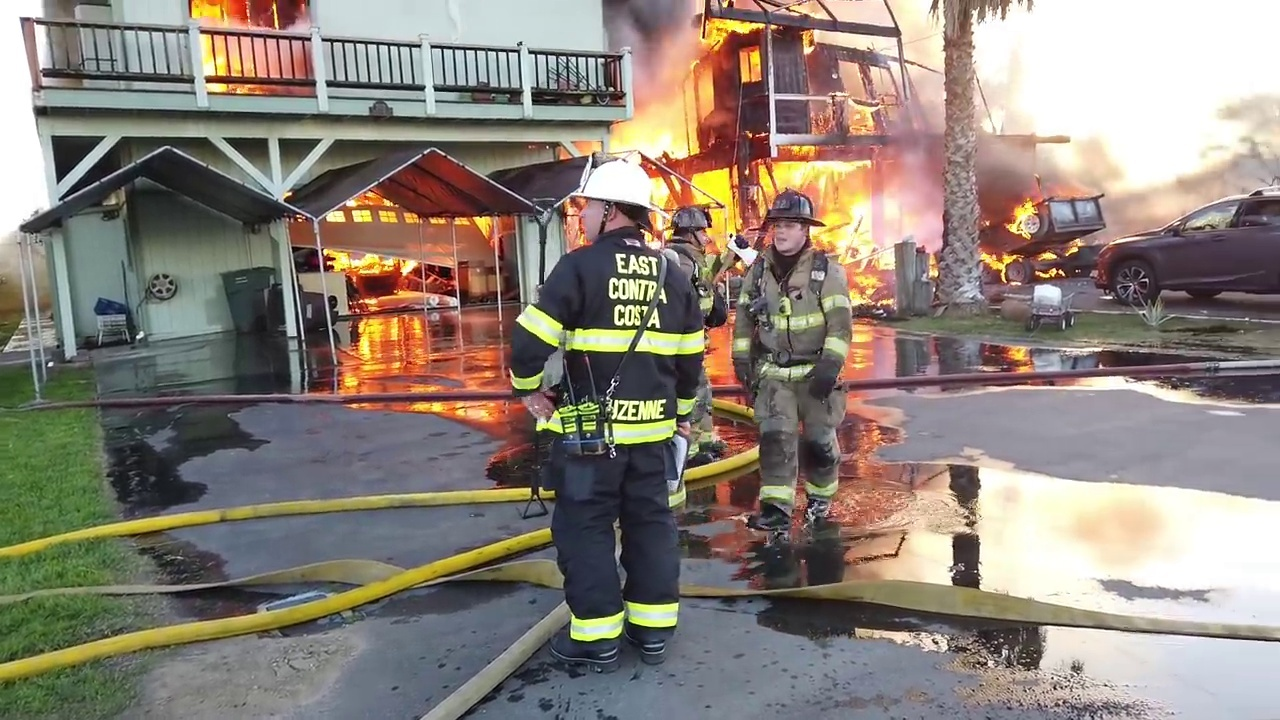fire: (1049, 107, 1216, 188), (324, 193, 494, 234), (671, 60, 721, 153), (650, 165, 736, 213), (978, 245, 1083, 283), (813, 194, 885, 248), (762, 161, 879, 194), (321, 249, 418, 278), (1006, 198, 1053, 252), (689, 12, 769, 42), (614, 115, 676, 152), (189, 1, 261, 27), (851, 269, 895, 311), (735, 46, 764, 84), (918, 249, 944, 281)
smoke: (885, 113, 946, 243), (606, 1, 690, 73), (977, 114, 1046, 193), (233, 14, 315, 79), (1101, 193, 1165, 238)
